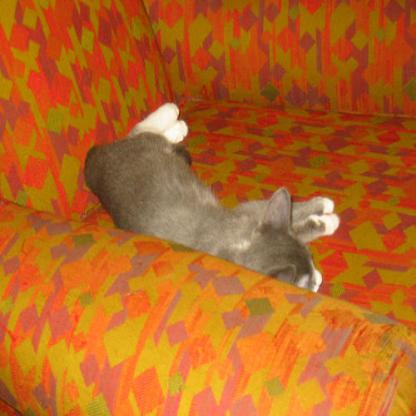cat: (83, 101, 340, 291)
